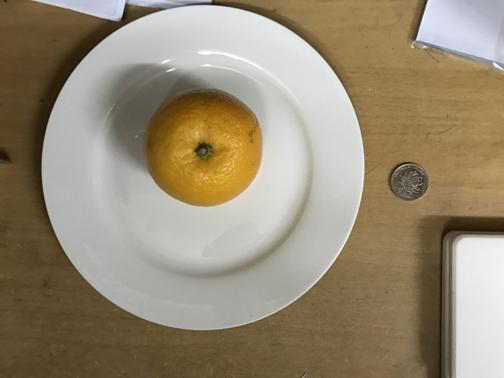coin: (389, 162, 427, 200)
orange: (150, 91, 265, 207)
